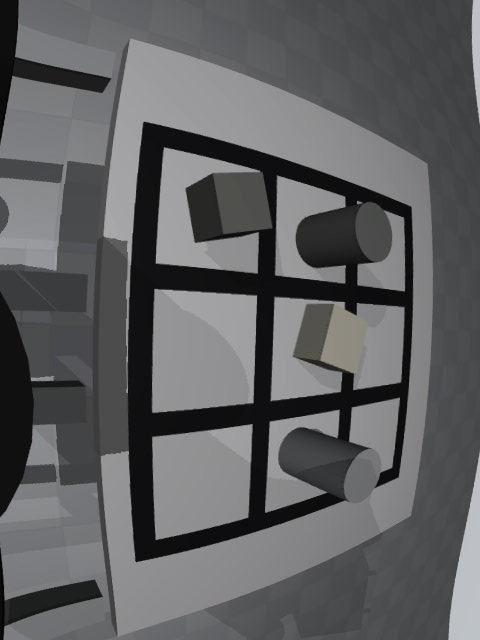can: (278, 427, 381, 504)
cube: (185, 172, 272, 243)
cylinder: (296, 202, 392, 268)
foam: (293, 304, 369, 375)
